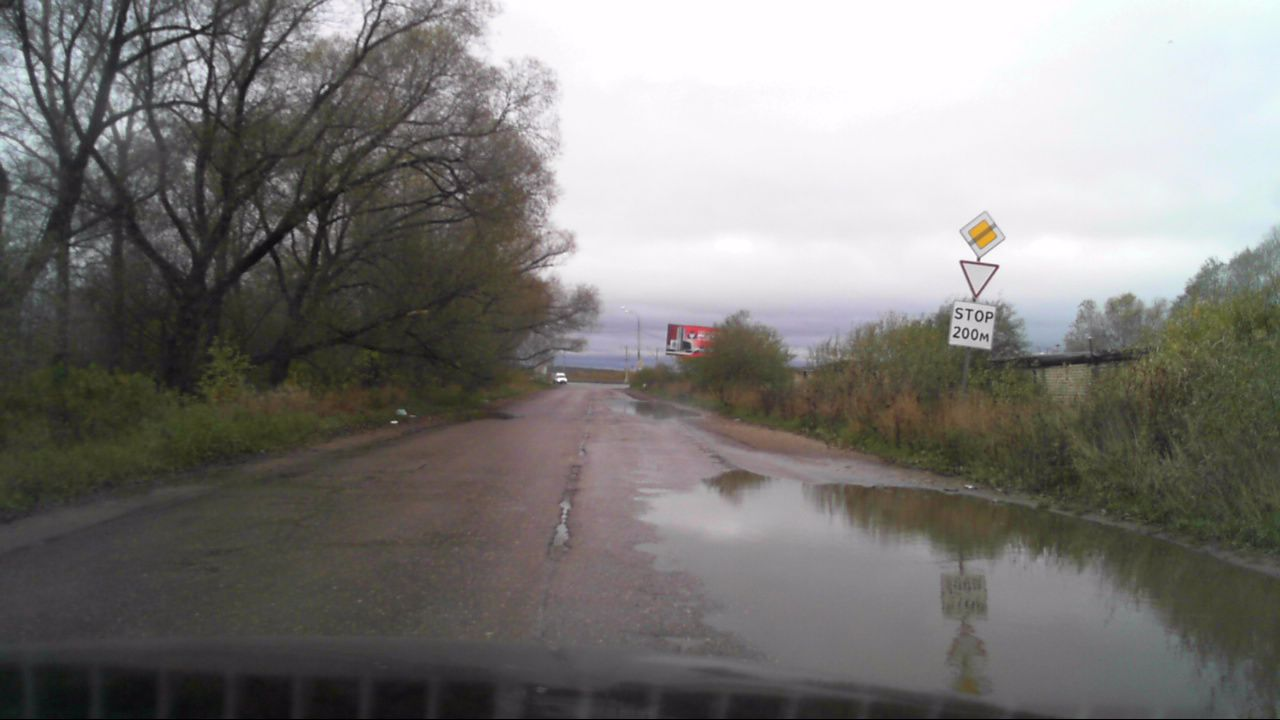main road: (959, 209, 1003, 256)
